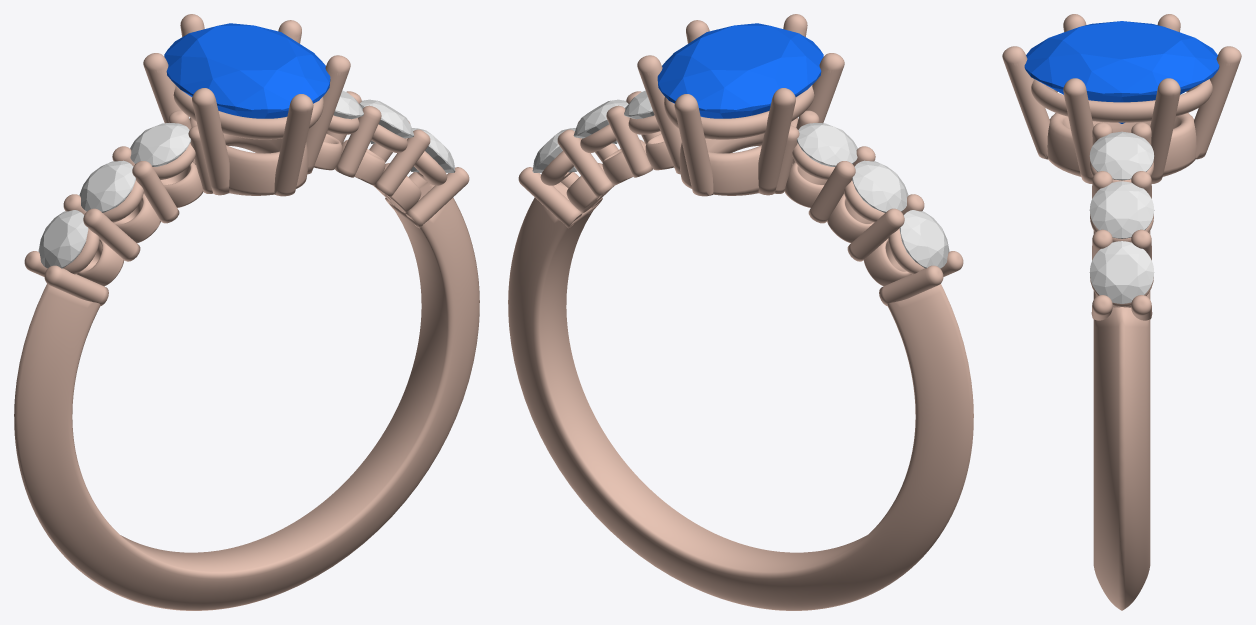
File: bluesapphire-oval-rosegold-6prong-knifeedge-7stone.glb
The picture shows the model from 3 angles, left to right: view 1: azimuth 30°, elevation 25°; view 2: azimuth 150°, elevation 25°; view 3: azimuth 270°, elevation 25°; orthographic projection.
Parts seen in each view (by area): view 1: metal, stone.001, side.012, side.013, side.014, side.016, side.015; view 2: metal, stone.001, side.012, side.013, side.014, side.016, side.015; view 3: metal, stone.001, side.015, side.016, side.017.
Boxes of the visible parts, bbox=[...] form: metal: bbox=[14, 14, 479, 610]; stone.001: bbox=[164, 23, 330, 118]; side.012: bbox=[38, 210, 88, 268]; side.013: bbox=[79, 160, 135, 212]; side.014: bbox=[130, 123, 190, 166]; side.016: bbox=[359, 99, 414, 143]; side.015: bbox=[410, 128, 455, 172]; metal: bbox=[508, 14, 973, 610]; stone.001: bbox=[657, 23, 823, 118]; side.012: bbox=[899, 210, 949, 268]; side.013: bbox=[852, 160, 908, 212]; side.014: bbox=[797, 123, 857, 166]; side.016: bbox=[573, 99, 628, 143]; side.015: bbox=[532, 128, 577, 172]; metal: bbox=[1002, 14, 1241, 610]; stone.001: bbox=[1024, 21, 1219, 123]; side.015: bbox=[1089, 241, 1154, 303]; side.016: bbox=[1089, 181, 1154, 238]; side.017: bbox=[1089, 131, 1154, 180].
Size of the model in its own units: 20.5 by 23.4 by 9.29.
